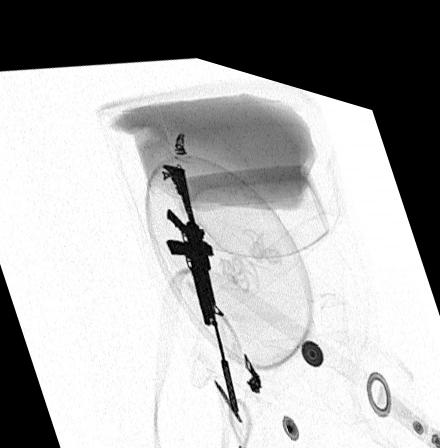Gun: (162, 154, 239, 396)
